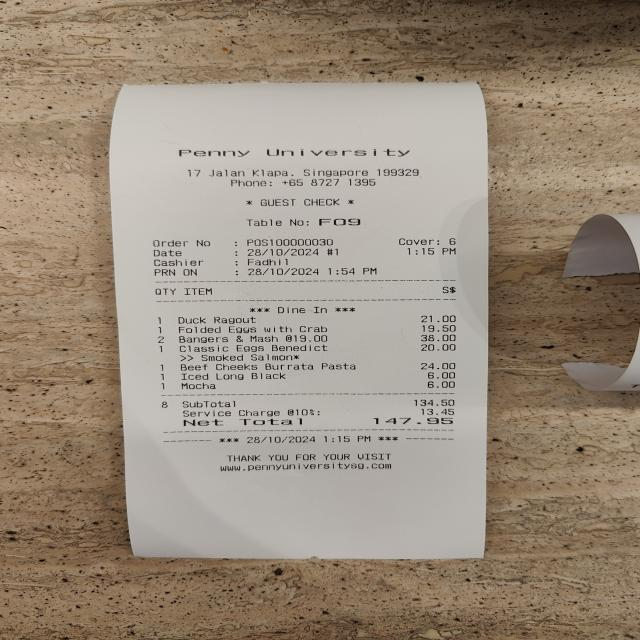bill_region: (151, 312, 462, 429)
